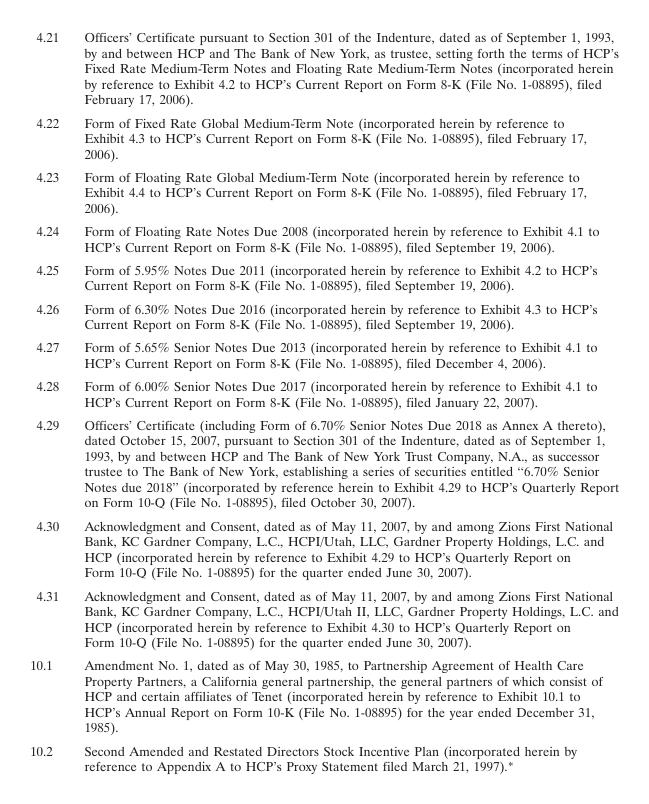table: (29, 28, 618, 773)
table column: (70, 28, 618, 773), (29, 28, 70, 773)
table row: (29, 412, 618, 513), (29, 653, 618, 738), (29, 28, 618, 110), (29, 513, 618, 583), (29, 583, 618, 653), (29, 110, 618, 164), (29, 164, 618, 218), (29, 218, 618, 257), (29, 257, 618, 296), (29, 296, 618, 335), (29, 335, 618, 374), (29, 374, 618, 412), (29, 738, 618, 773)
